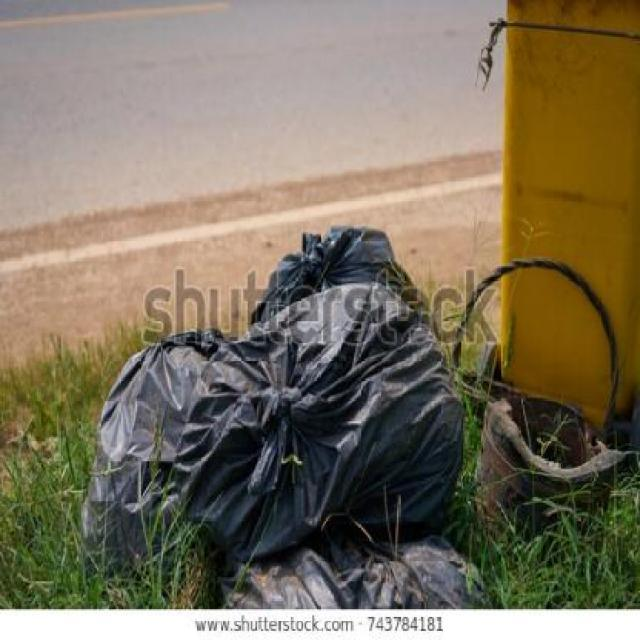garbage: (172, 228, 500, 604), (453, 271, 632, 556), (74, 325, 220, 614)
